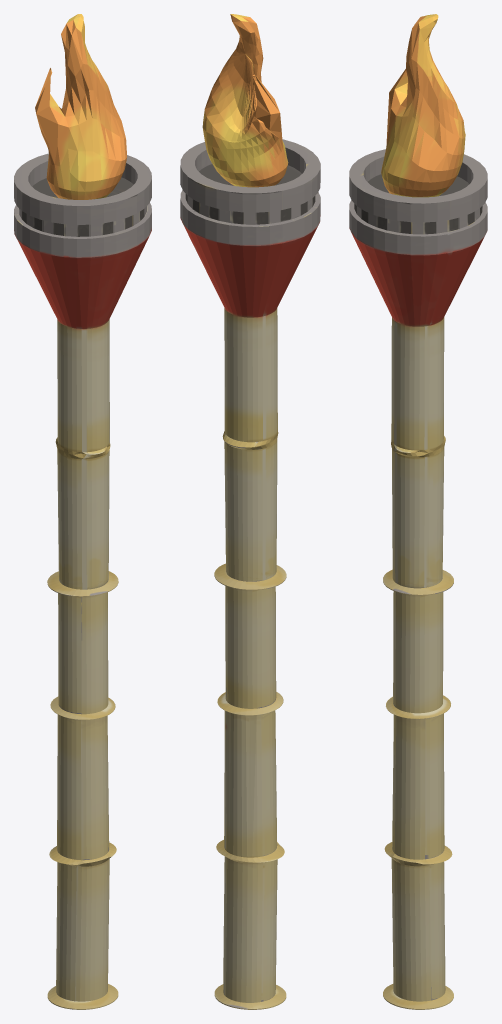
Rendered from firelamp.obj.
3 renders of one model, left to right at view 1: azimuth 30°, elevation 25°; view 2: azimuth 150°, elevation 25°; view 3: azimuth 330°, elevation 25°, orthographic.
Visible parts, largest first — view 1: firelamp_Material.008; view 2: firelamp_Material.008; view 3: firelamp_Material.008.
Boxes of the visible parts, left/top/right/bottom form: firelamp_Material.008: left=14, top=14, right=151, bottom=1009; firelamp_Material.008: left=180, top=14, right=320, bottom=1009; firelamp_Material.008: left=349, top=14, right=487, bottom=1009.
Size of the model in its own units: 1.4 by 10.73 by 1.33.
